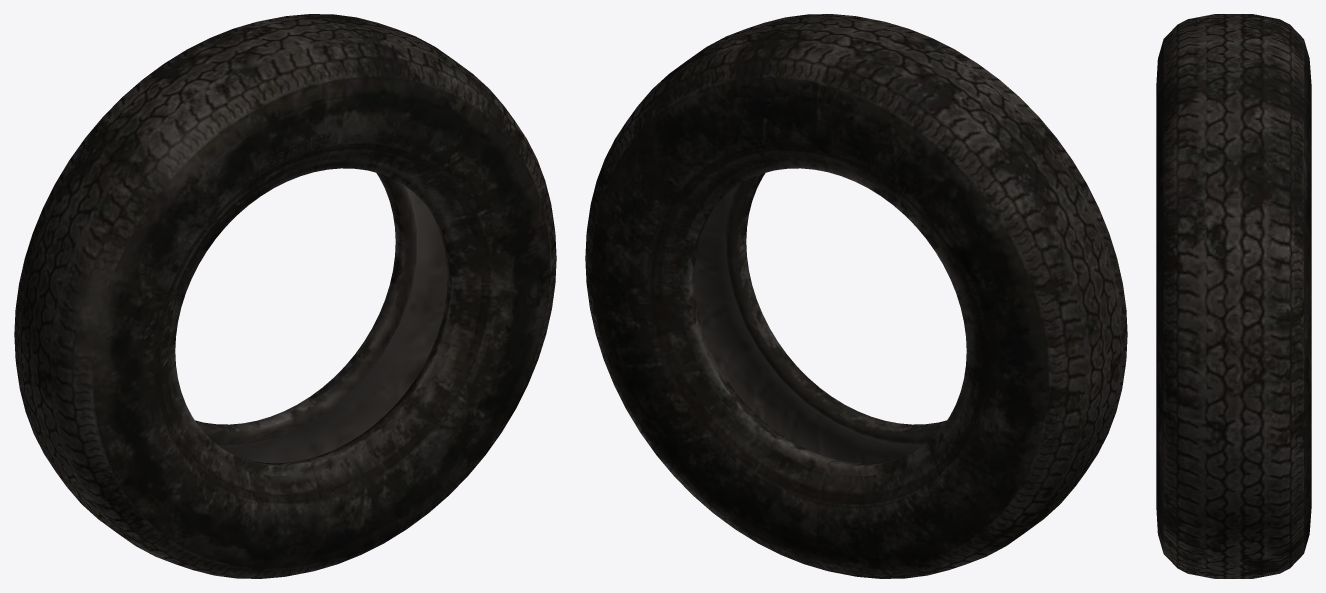
The model's file is old_tyre.glb.
The picture shows the model from 3 angles, left to right: view 1: azimuth 30°, elevation 25°; view 2: azimuth 150°, elevation 25°; view 3: azimuth 270°, elevation 25°; orthographic projection. The views are drawn at different scales.
Visible parts, largest first — view 1: old_tyre; view 2: old_tyre; view 3: old_tyre.
Part boxes in pixels (box(x1,y1,x2,y2)): old_tyre: box(14, 14, 556, 578); old_tyre: box(585, 14, 1127, 578); old_tyre: box(1156, 14, 1311, 578).
Bounding box in the file's own units: 0.6 × 0.6 × 0.165.
1 material, 1 textured.
